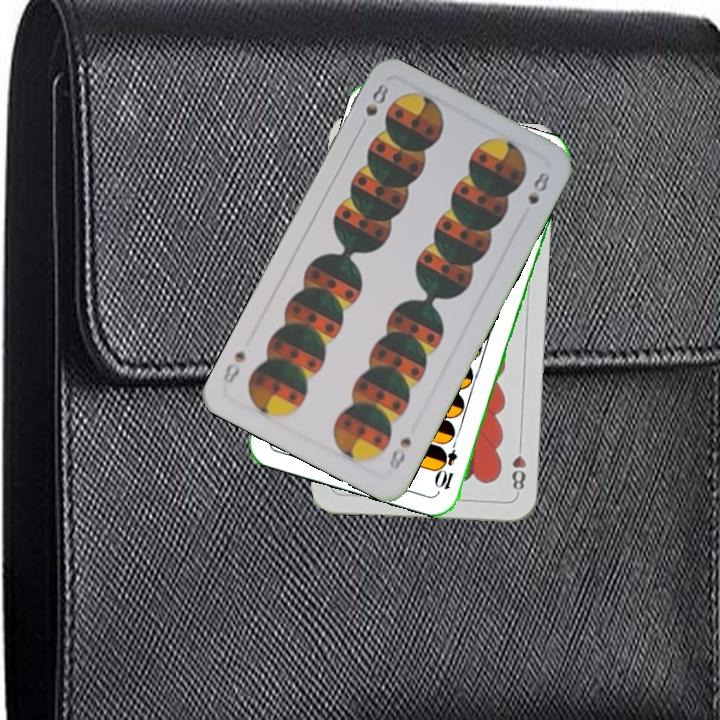E10: (433, 433, 460, 492)
H8: (508, 438, 529, 497)
S8: (361, 79, 392, 119), (385, 433, 414, 473)
